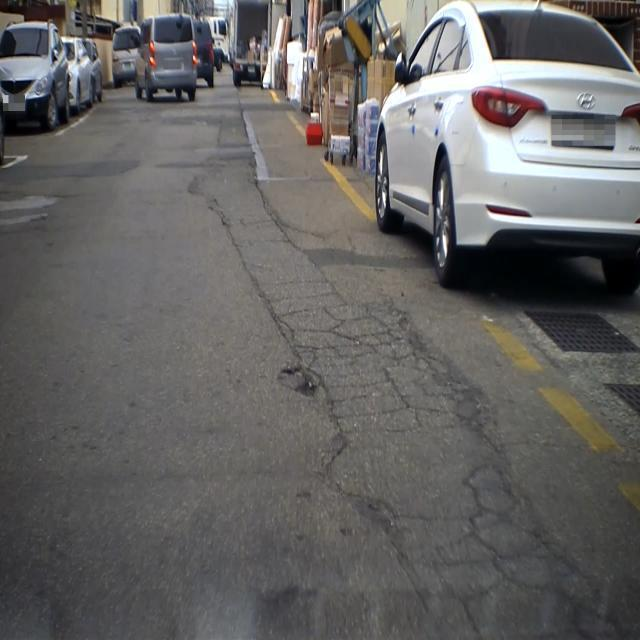pothole: (277, 354, 324, 414)
